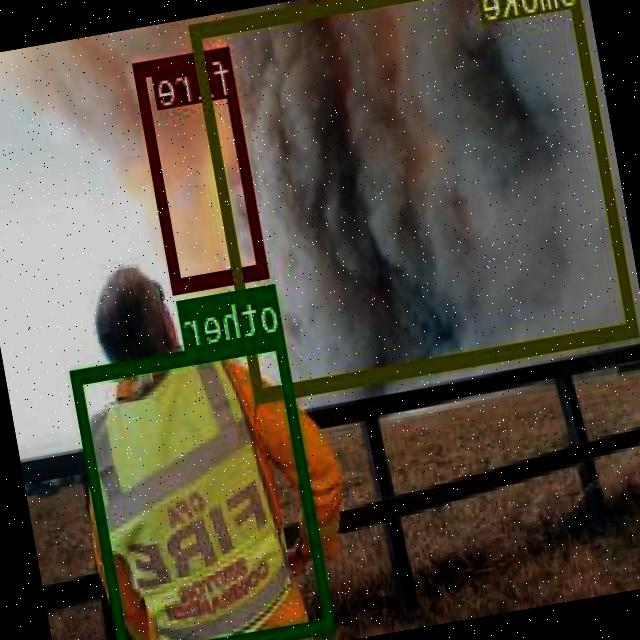fire: (134, 44, 269, 289)
smoke: (191, 0, 640, 400)
